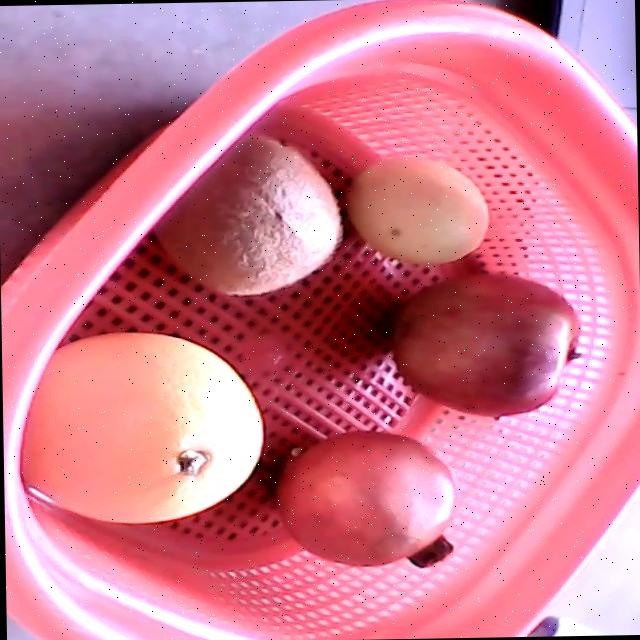apple: (389, 274, 581, 417)
kiwi: (152, 136, 341, 294)
lemon: (345, 158, 486, 265)
orange: (17, 331, 261, 523)
pomegranate: (273, 429, 455, 569)
